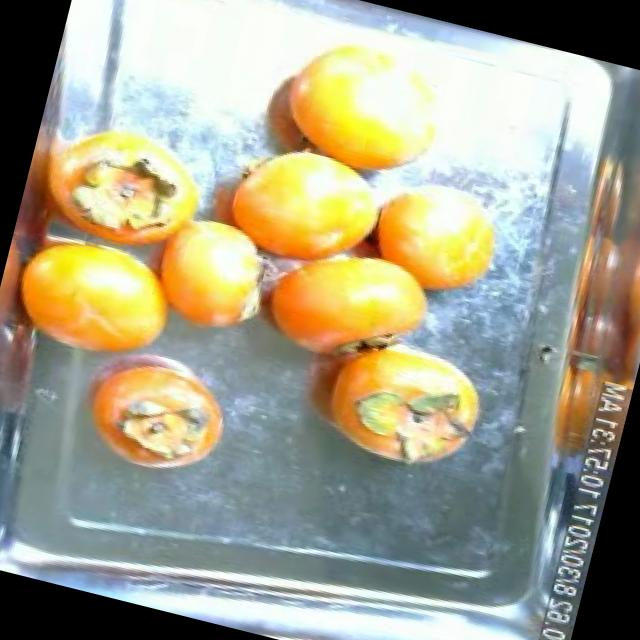Fruit: (0, 218, 200, 388), (54, 329, 251, 497), (340, 150, 529, 318), (128, 198, 286, 352)
